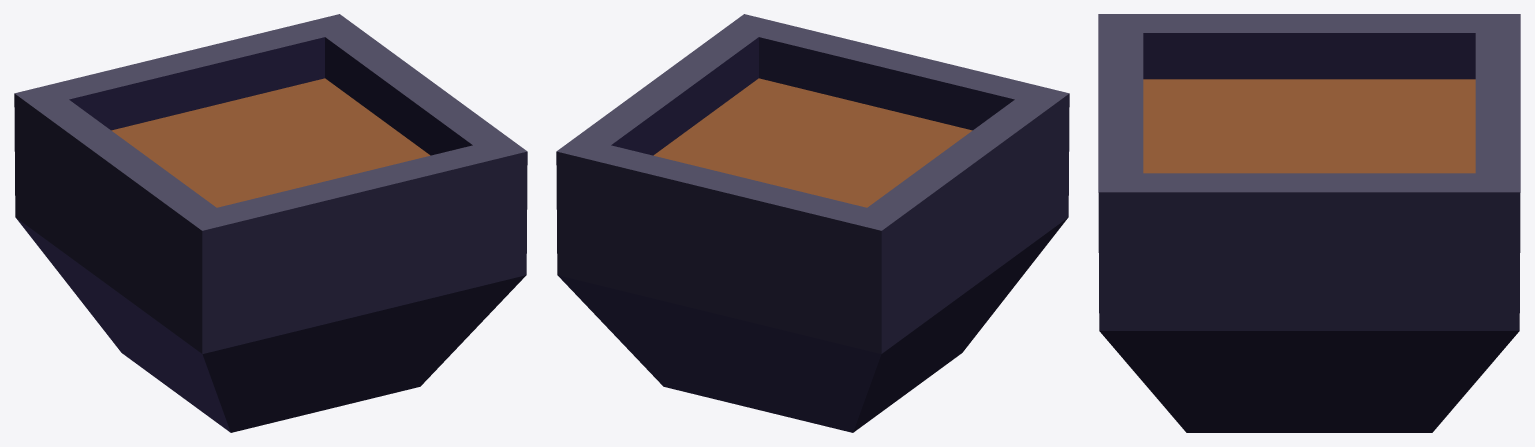
Rendered from pot2.fbx.
3 renders of one model, left to right at view 1: azimuth 30°, elevation 25°; view 2: azimuth 150°, elevation 25°; view 3: azimuth 270°, elevation 25°, orthographic. The views are drawn at different scales.
Parts seen in each view (by area): view 1: pot2; view 2: pot2; view 3: pot2.
Part boxes in pixels (x1,y1,x2,y2): pot2: [14, 14, 527, 432]; pot2: [556, 14, 1069, 432]; pot2: [1098, 14, 1520, 432].
Bounding box in the file's own units: 20.14 × 14.63 × 20.14.
